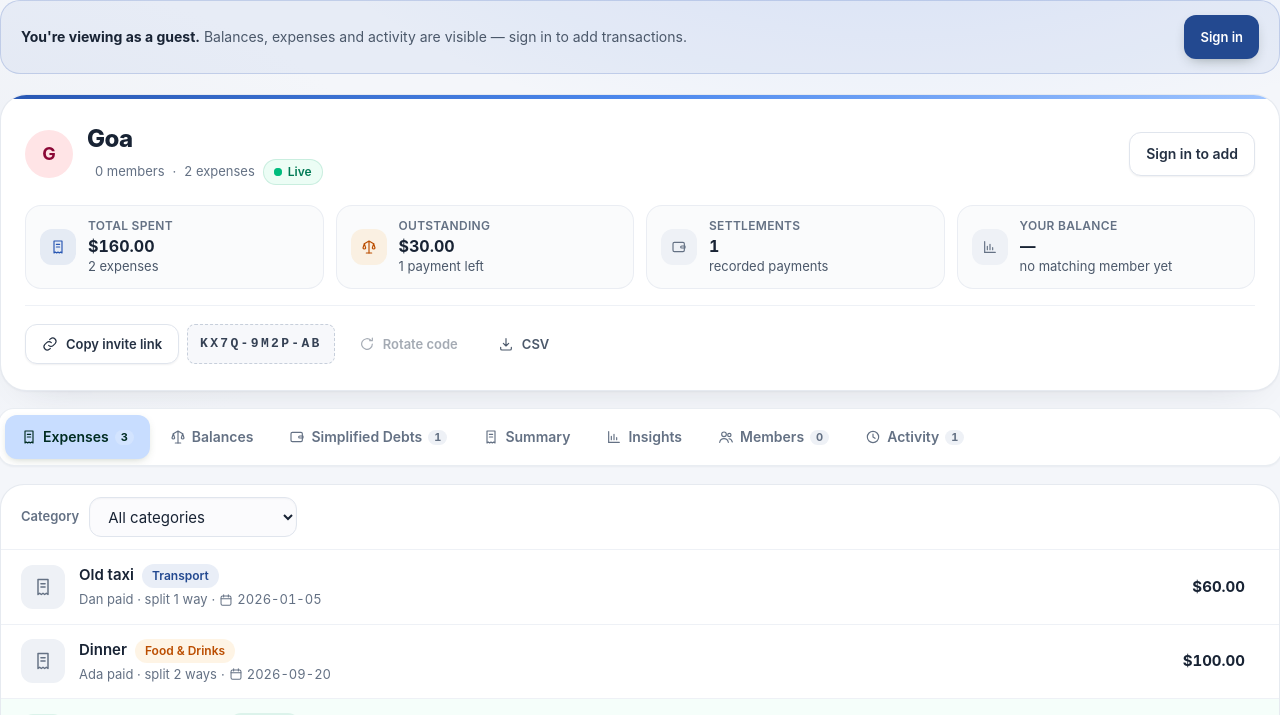
Test: GroupPage as guest › renders header, expenses and guest banner
Expected: the heading "Goa" is shown, [87,124,132,153]
Expected: the text "You're viewing as a guest." is shown, [21,28,200,45]
Click the button "Sign in to add" at (1192, 154), box [1129,132,1255,176]
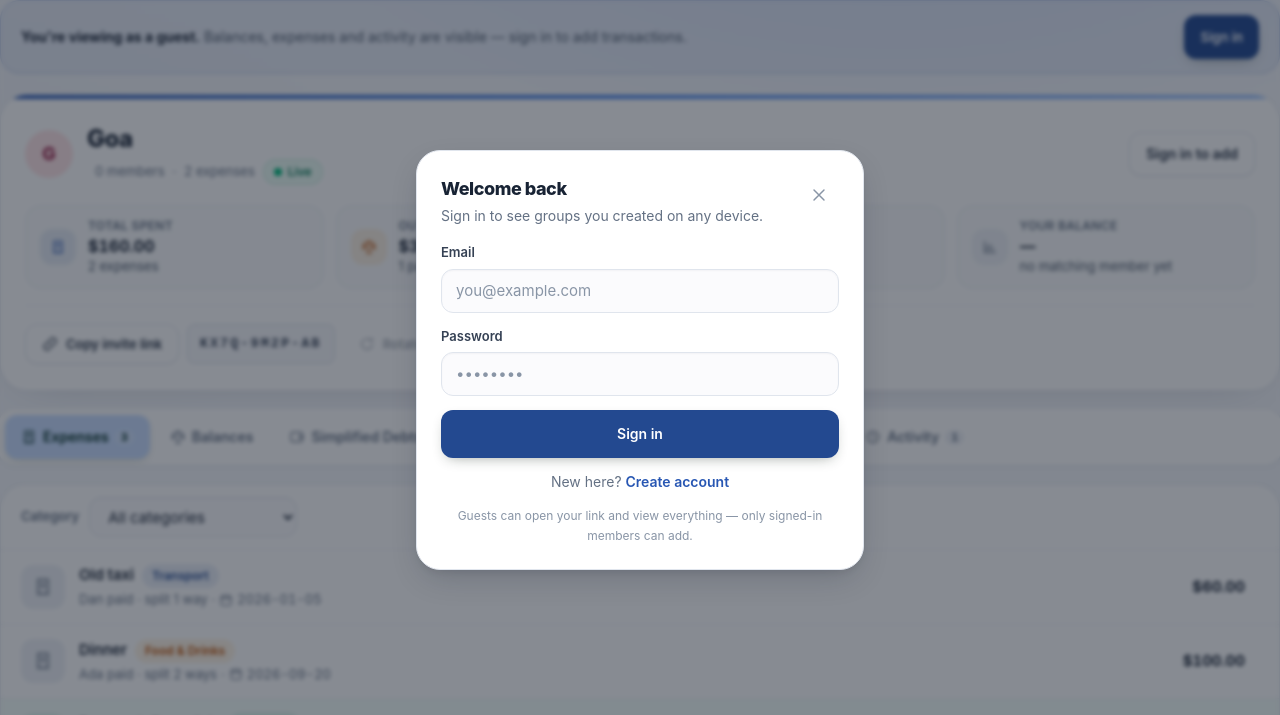
Expected: the heading "Welcome back" is shown, [441,178,567,199]
